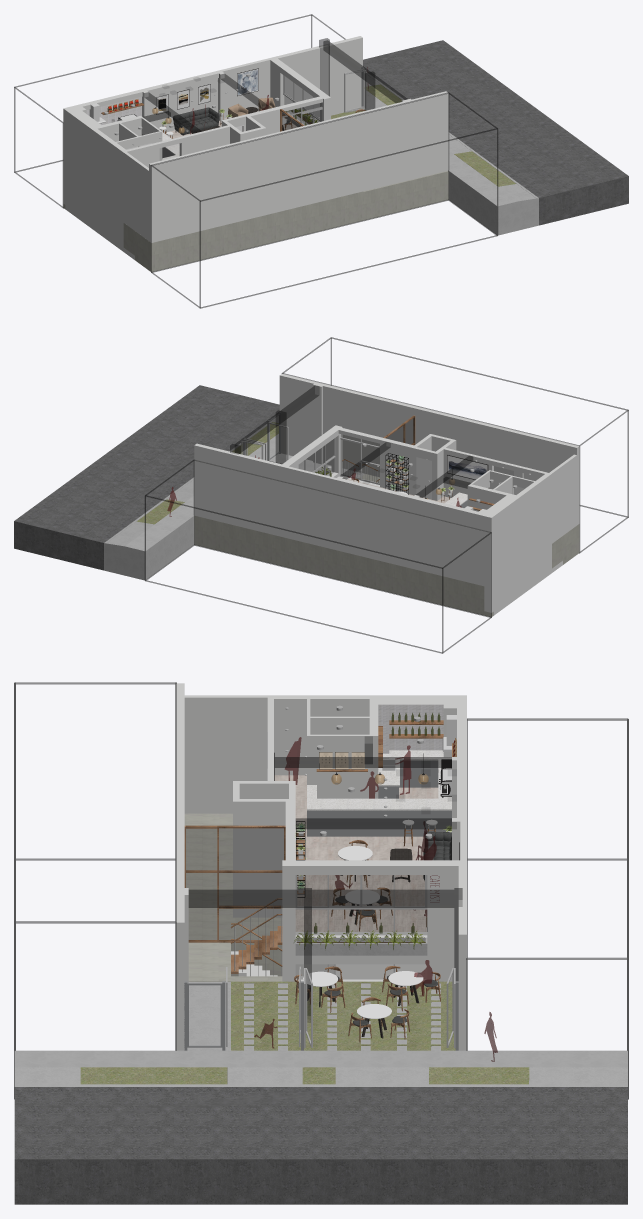
Rendered from cafe-misti-draco.glb.
The picture shows the model from 3 angles, top to bottom: view 1: azimuth 30°, elevation 25°; view 2: azimuth 150°, elevation 25°; view 3: azimuth 270°, elevation 25°; orthographic projection. The views are drawn at different scales.
Parts seen in each view (by area): view 1: Object_48, Object_30, Object_44, Object_37, Object_31, Object_38, Object_34, Object_32, Object_25, Object_16, Object_2; view 2: Object_48, Object_30, Object_44, Object_37, Object_31, Object_34, Object_25, Object_38, Object_21, Object_52, Object_6; view 3: Object_30, Object_48, Object_31, Object_38, Object_37, Object_34, Object_45, Object_44, Object_20, Object_4, Object_25, Object_43 (+8 smaller).
Boxes of the visible parts, bbox=[...] form: Object_48: bbox=[63, 36, 448, 259]; Object_30: bbox=[363, 40, 628, 225]; Object_44: bbox=[63, 171, 448, 271]; Object_37: bbox=[14, 14, 497, 308]; Object_31: bbox=[290, 72, 538, 235]; Object_38: bbox=[331, 84, 515, 186]; Object_34: bbox=[112, 77, 321, 130]; Object_32: bbox=[173, 107, 289, 135]; Object_25: bbox=[104, 68, 366, 145]; Object_16: bbox=[86, 97, 141, 124]; Object_2: bbox=[237, 69, 258, 95]; Object_48: bbox=[194, 373, 579, 615]; Object_30: bbox=[14, 385, 279, 570]; Object_44: bbox=[194, 474, 579, 616]; Object_37: bbox=[145, 337, 628, 653]; Object_31: bbox=[104, 416, 364, 580]; Object_34: bbox=[299, 418, 413, 482]; Object_25: bbox=[241, 422, 530, 502]; Object_38: bbox=[137, 422, 278, 524]; Object_21: bbox=[387, 457, 524, 499]; Object_52: bbox=[447, 455, 487, 479]; Object_6: bbox=[385, 453, 408, 494]; Object_30: bbox=[14, 1087, 627, 1204]; Object_48: bbox=[176, 683, 466, 1050]; Object_31: bbox=[14, 937, 627, 1086]; Object_38: bbox=[80, 981, 529, 1084]; Object_37: bbox=[14, 682, 628, 1099]; Object_34: bbox=[186, 828, 426, 978]; Object_45: bbox=[274, 775, 438, 931]; Object_44: bbox=[184, 813, 431, 1050]; Object_20: bbox=[184, 760, 458, 1050]; Object_4: bbox=[184, 720, 453, 1042]; Object_25: bbox=[226, 705, 455, 1048]; Object_43: bbox=[307, 750, 451, 810].
Size of the model in its own units: 26.13 by 6.29 by 19.65.
49 materials, 24 textured.
